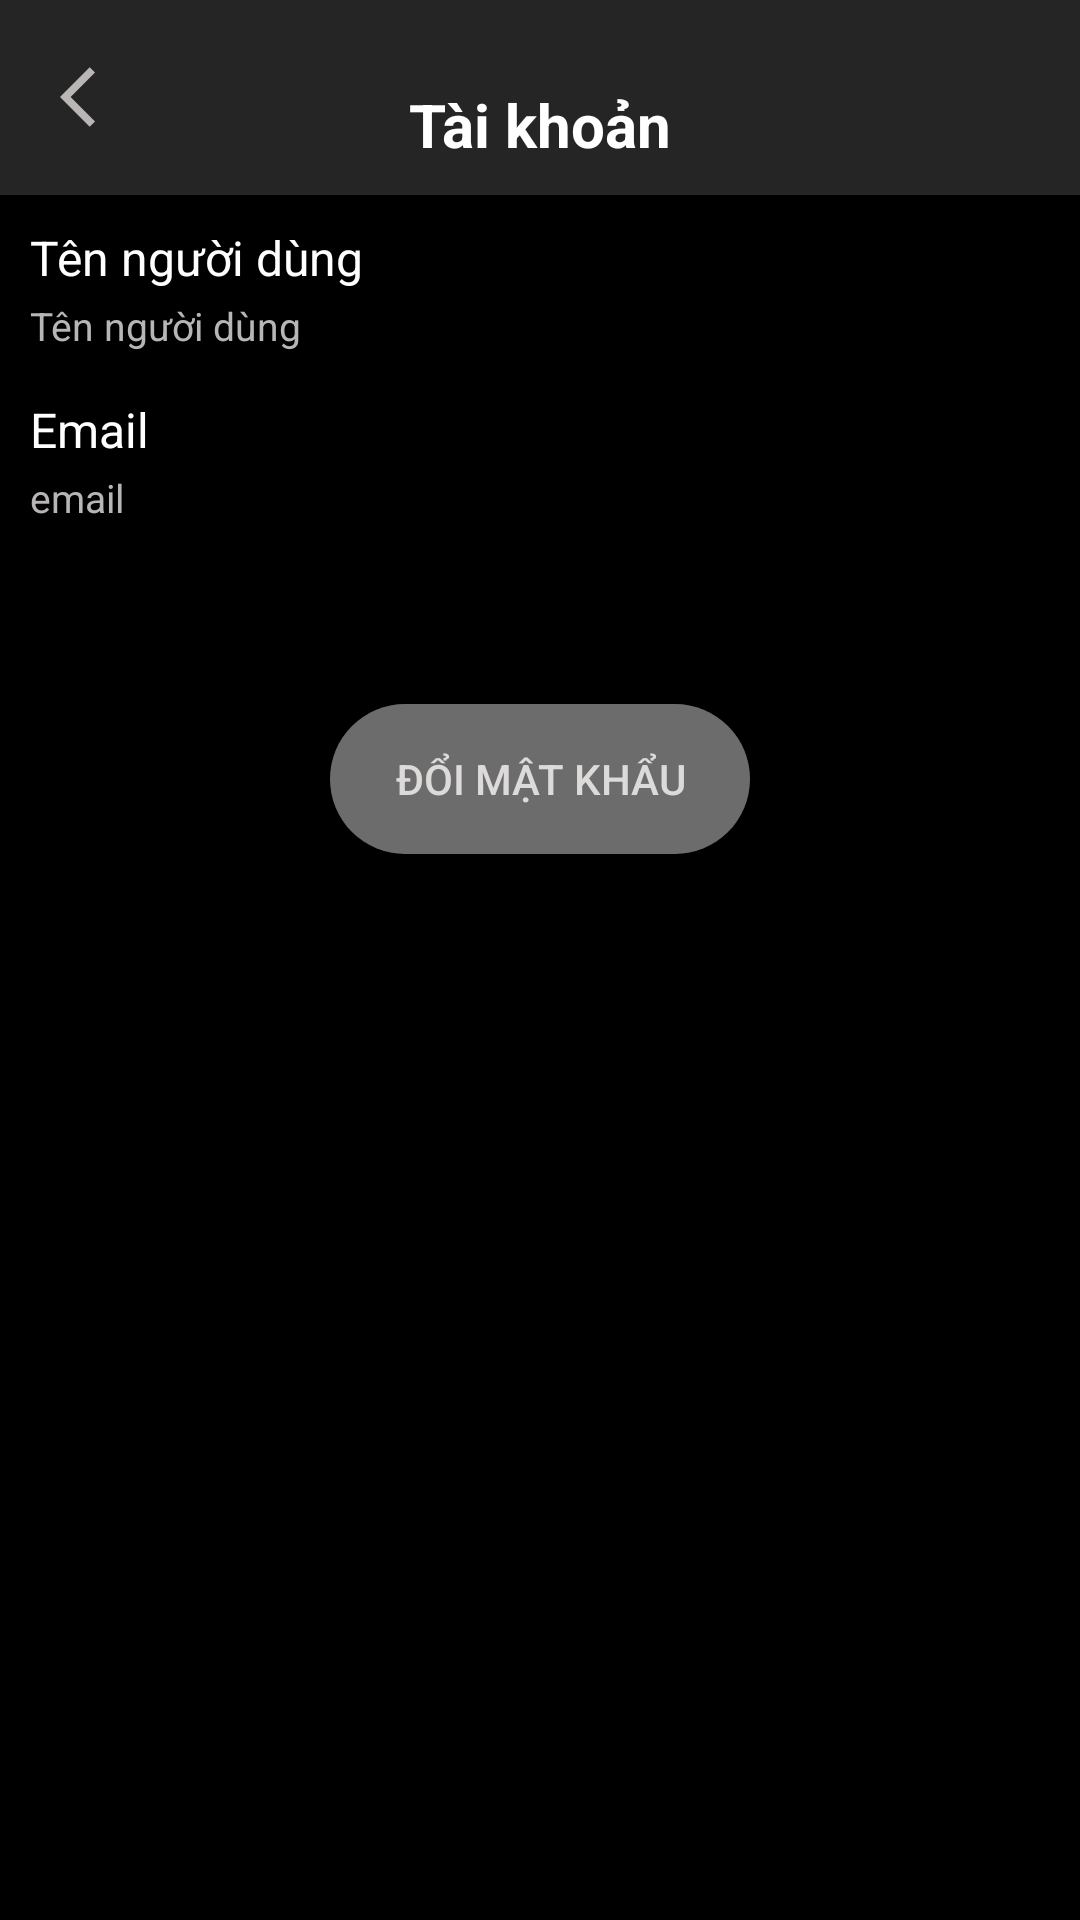

Icons on this 1080 x 1920 Android screen, each with its box as [x1, y1, x2, y2]:
back: [60, 67, 95, 127]
